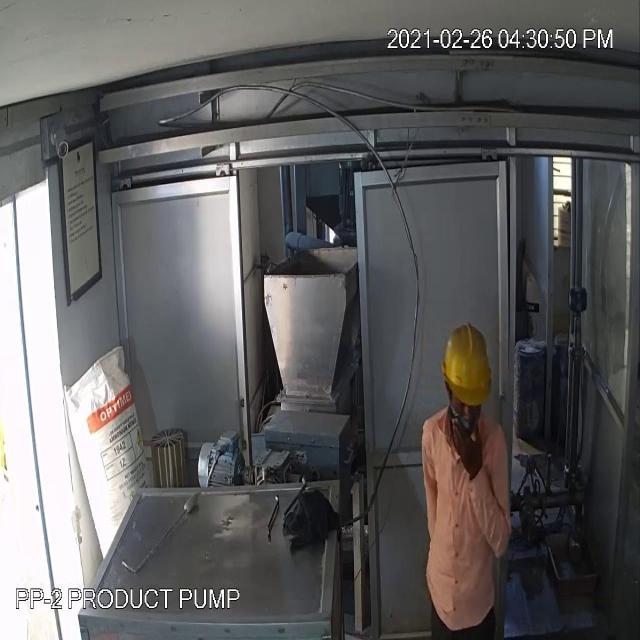helmet: (436, 320, 494, 418)
